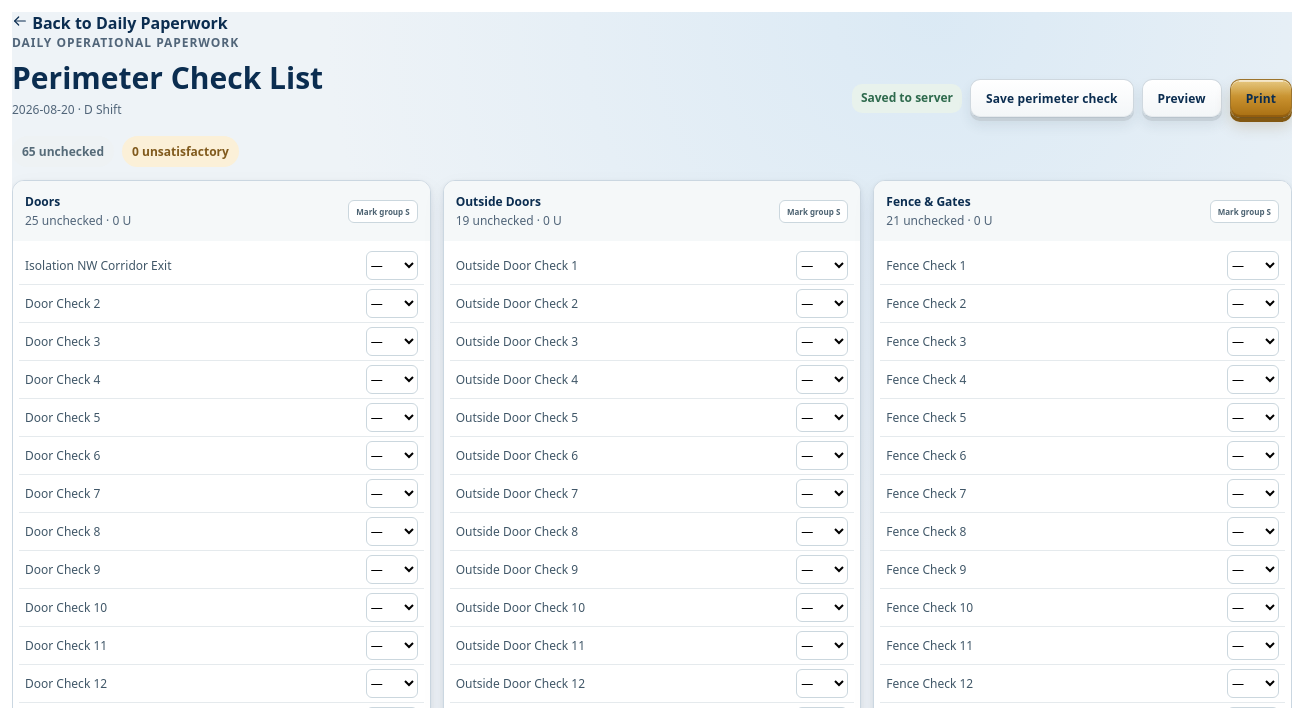
Test: Perimeter Check editor › bulk-marks only blank group items and keeps unsatisfactory exceptions
Select "U" in the dropdown named "Isolation NW Corridor Exit perimeter result" at (392, 266), box x1=366 y1=251 x2=418 y2=280
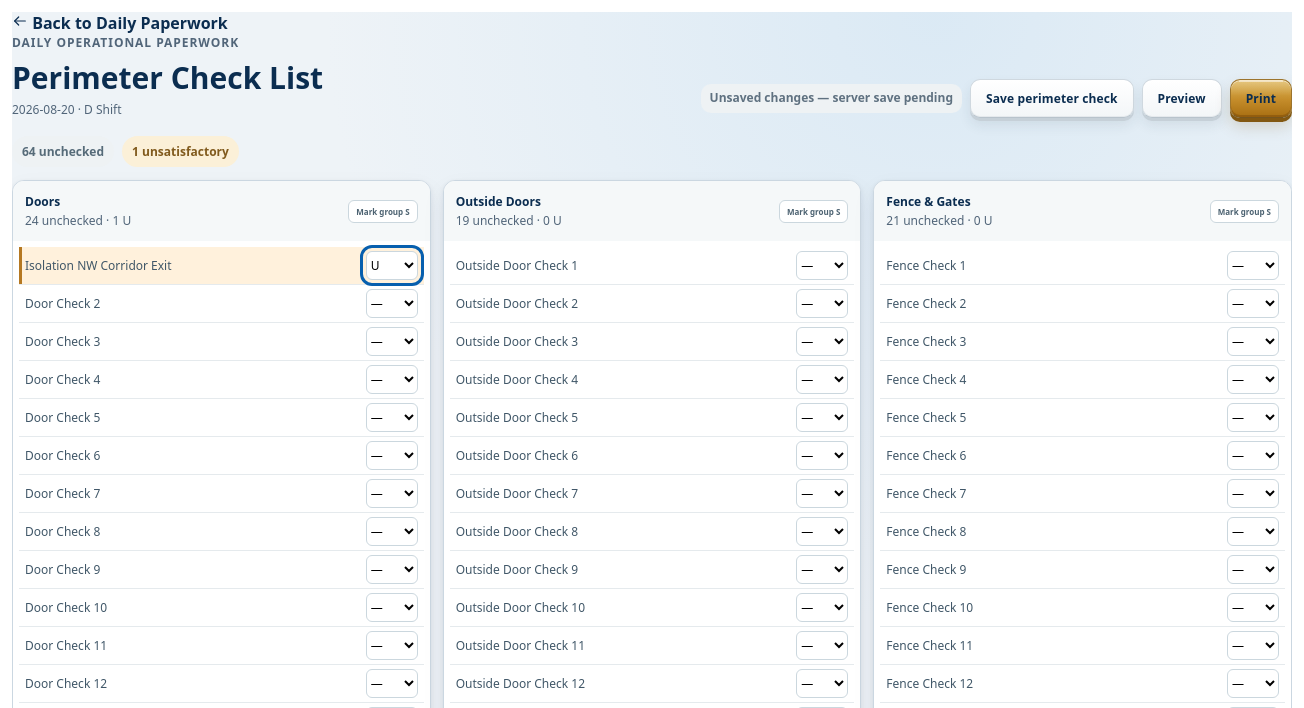
Click the button with aria-label "Mark Doors Satisfactory".
click(383, 211)  # box x1=348 y1=200 x2=418 y2=222
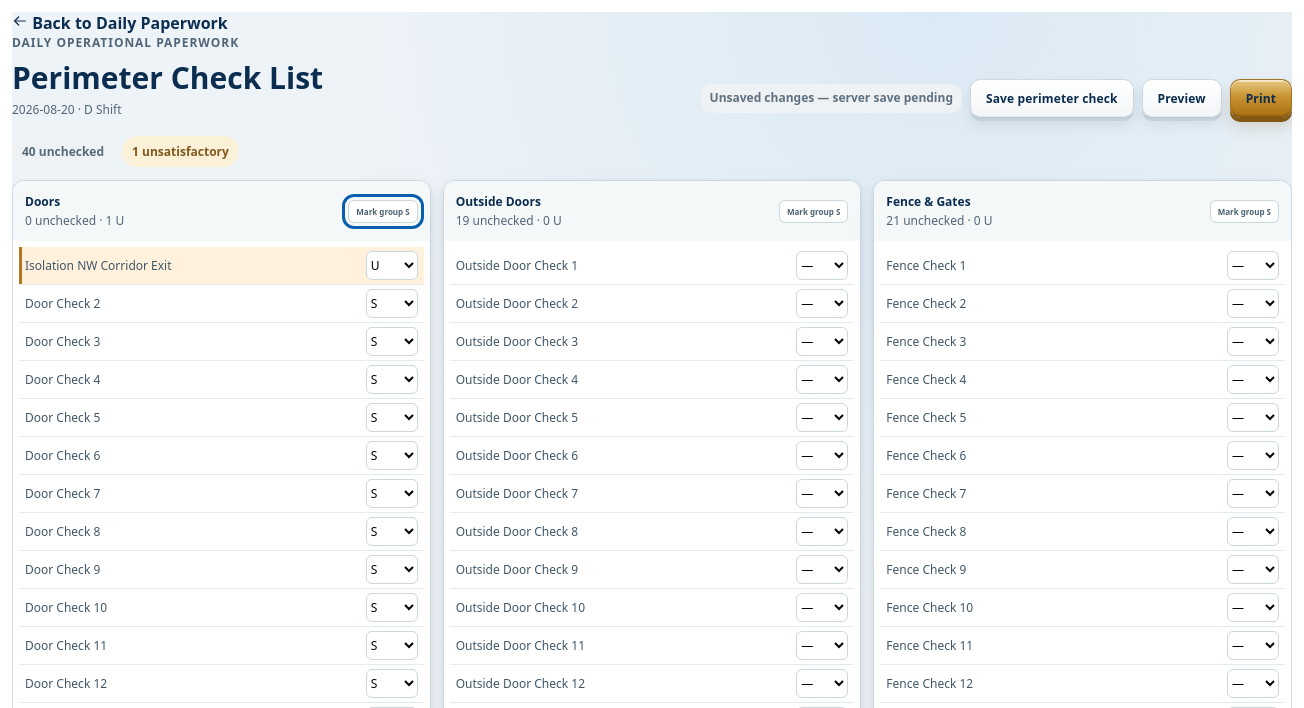
expect the message named "Perimeter completion summary" shows "1 unsatisfactory": met, box x1=12 y1=136 x2=239 y2=167
expect the dropdown named "Door Check 2 perimeter result" shows "S": met, box x1=366 y1=289 x2=418 y2=318
expect the message named "Perimeter completion summary" shows "40 unchecked": met, box x1=12 y1=136 x2=239 y2=167
